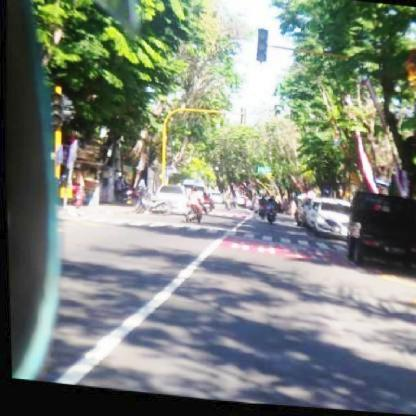Traffic Light -Yellow-: (254, 31, 270, 66)
